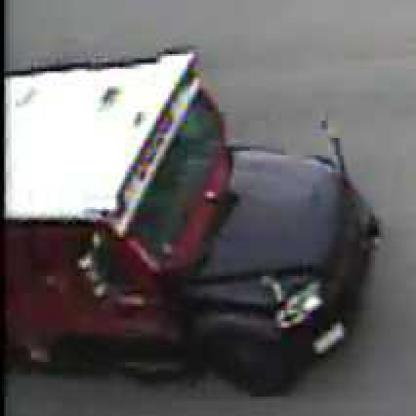container: (3, 63, 370, 387)
